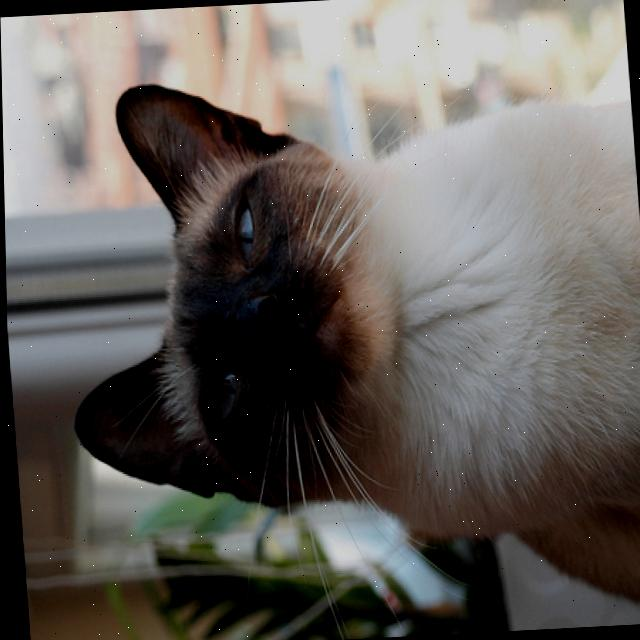Siamese: (40, 51, 640, 640)
